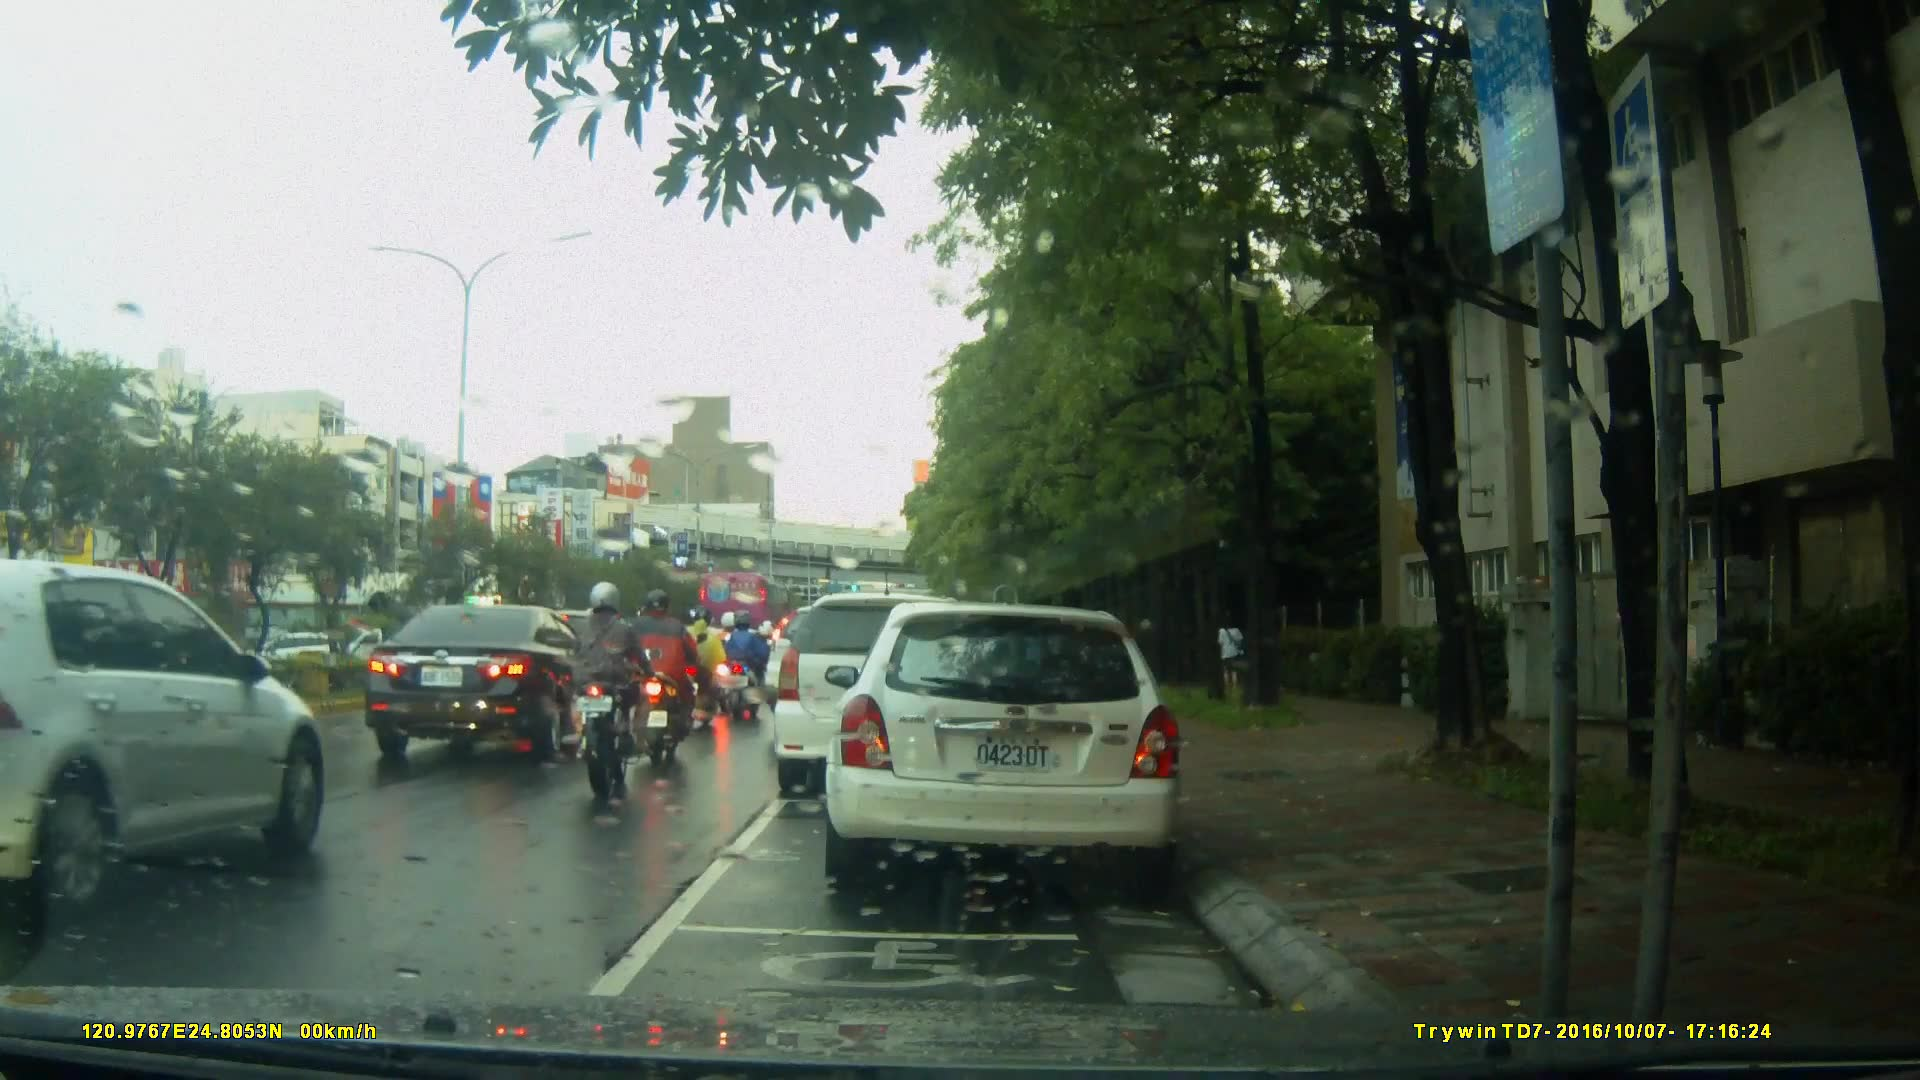pedestrian: (1214, 613, 1250, 703)
rider: (564, 583, 648, 819), (630, 585, 707, 764), (683, 604, 730, 728), (725, 608, 771, 723)
vehicle: (1, 558, 330, 916), (835, 594, 1194, 898), (776, 590, 1026, 784), (362, 601, 634, 768), (695, 571, 790, 647)
